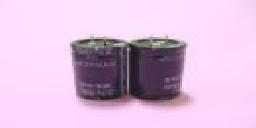Electrolytic-Capacitor: (133, 33, 190, 107), (68, 33, 129, 102)
